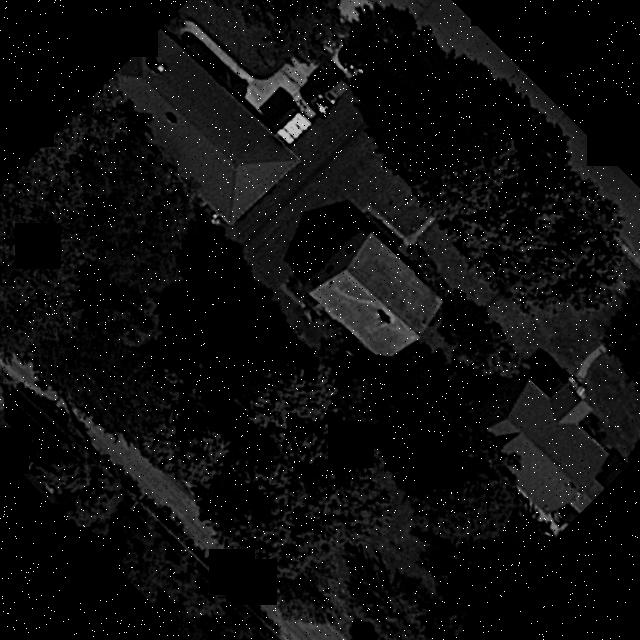Driveway: (359, 173, 481, 258)
House: (305, 230, 442, 363)
